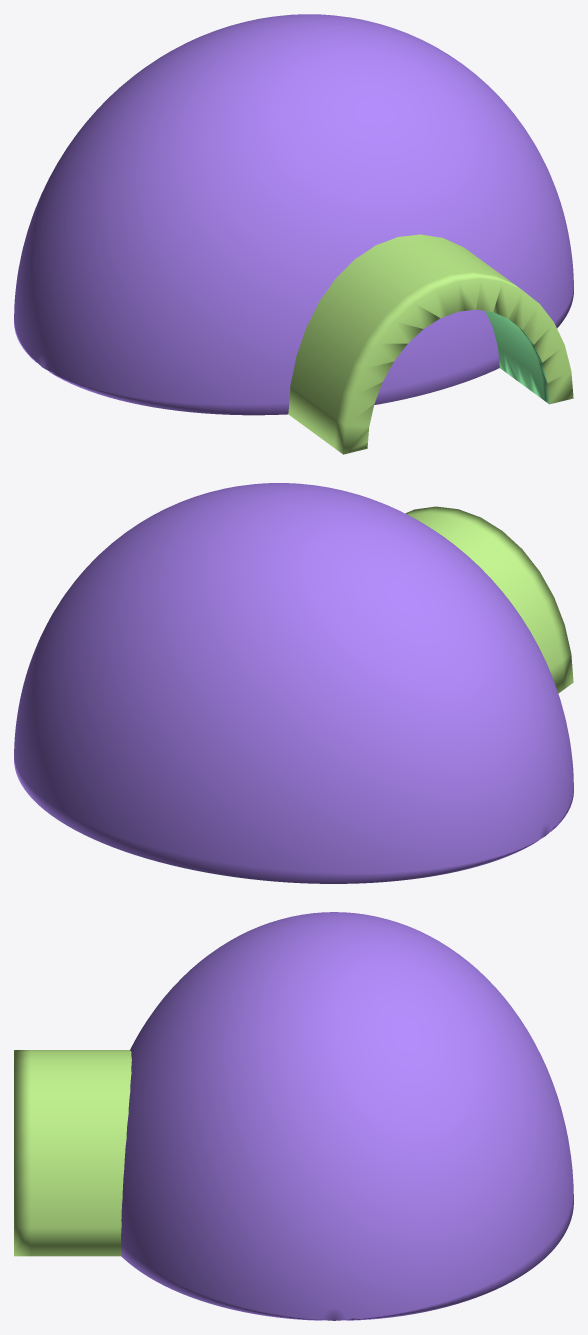
Rendered from Igloo.fbx.
The picture shows the model from 3 angles, top to bottom: view 1: azimuth 30°, elevation 25°; view 2: azimuth 150°, elevation 25°; view 3: azimuth 270°, elevation 25°; orthographic projection. The views are drawn at different scales.
Parts seen in each view (by area): view 1: UMesh_PM3D_Cylinder3D2_5; view 2: UMesh_PM3D_Cylinder3D2_5; view 3: UMesh_PM3D_Cylinder3D2_5.
Part boxes in pixels (x1,y1,x2,y2): UMesh_PM3D_Cylinder3D2_5: [14, 14, 573, 454]; UMesh_PM3D_Cylinder3D2_5: [14, 483, 573, 883]; UMesh_PM3D_Cylinder3D2_5: [14, 912, 573, 1320].
Bounding box in the file's own units: 3.06 × 1.58 × 3.04.
